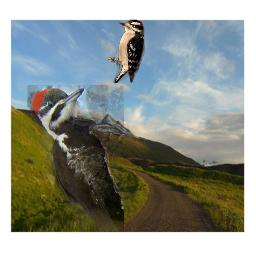Woodpecker: (27, 85, 124, 232), (107, 18, 145, 83)
